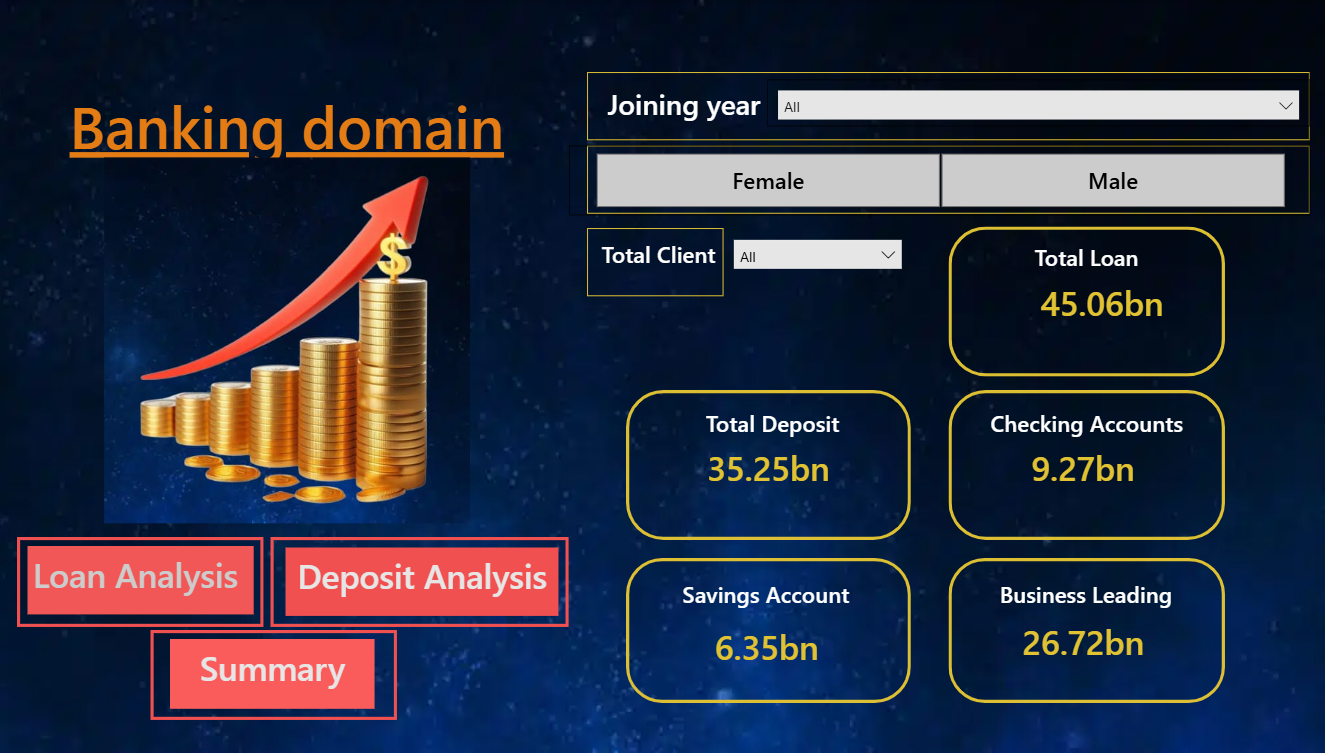

Layout of this report page (visuals, bound fields, positions):
{"tool":"powerbi","page":{"name":"Home","canvas":[1280,720],"ordinal":0},"visuals":[{"type":"shape","box":[572.6,138.4,690.3,65.2],"z":0},{"type":"slicer","fields":{"Values":["Advanced_Cleaned_Messy2.genderid"]},"box":[555.1,138.4,707.8,66.8],"z":1000},{"type":"shape","box":[572.6,68.4,690.3,65.2],"z":2000},{"type":"slicer","fields":{"Values":["Advanced_Cleaned_Messy2.client_id"]},"box":[703.1,219.5,179.7,57.3],"z":3000},{"type":"shape","box":[917.8,532.9,264,138.4],"z":4000},{"type":"shape","box":[610.8,532.9,272,138.4],"z":5000},{"type":"shape","box":[610.8,372.2,272,143.2],"z":6000},{"type":"shape","box":[917.8,372.2,264,143.2],"z":7000},{"type":"shape","box":[917.8,216.3,264,143.2],"z":8000},{"type":"textbox","box":[656.9,383.3,179.7,49.3],"z":9000},{"type":"textbox","box":[572.6,222.7,136.8,54.1],"z":10000},{"type":"textbox","box":[976.6,224.3,146.3,52.5],"z":11000},{"type":"textbox","box":[946.4,383.3,206.8,49.3],"z":12000},{"type":"textbox","box":[639.4,547.2,210,54.1],"z":13000},{"type":"textbox","box":[946.4,547.2,205.2,63.6],"z":14000},{"type":"textbox","box":[284.7,523.3,260.9,65.2],"z":15000},{"type":"shape","box":[270.4,512.2,284.7,85.9],"z":16000},{"type":"shape","box":[28.6,512.2,235.4,85.9],"z":17000},{"type":"textbox","box":[38.2,521.7,216.3,65.2],"z":18000},{"type":"textbox","box":[175,610.8,195.6,66.8],"z":19000},{"type":"shape","box":[155.9,601.3,235.4,85.9],"z":20000},{"type":"textbox","box":[0,76.3,572.6,89.1],"z":21000},{"type":"textbox","box":[586.9,76.3,176.6,57.3],"z":22000},{"type":"slicer","fields":{"Values":["Advanced_Cleaned_Messy2.joined_bank"]},"box":[744.4,76.3,518.5,44.5],"z":23000},{"type":"cardVisual","fields":{"Data":["Advanced_Cleaned_Messy2.Total Deposit"]},"box":[658.5,408.8,190.9,74.8],"z":24000},{"type":"cardVisual","fields":{"Data":["Sum(Advanced_Cleaned_Messy2.checking_accounts)"]},"box":[968.7,408.8,160.7,74.8],"z":25000},{"type":"cardVisual","fields":{"Data":["Sum(Advanced_Cleaned_Messy2.business_lending)"]},"box":[959.1,574.2,182.9,74.8],"z":26000},{"type":"cardVisual","fields":{"Data":["Sum(Advanced_Cleaned_Messy2.saving_accounts)"]},"box":[666.5,579,160.7,74.8],"z":27000},{"type":"cardVisual","fields":{"Data":["Advanced_Cleaned_Messy2.Total Loan"]},"box":[976.6,251.3,189.3,74.8],"z":28000},{"type":"image","box":[65.9,150.4,441.2,349.5],"z":29000},{"type":"shape","box":[572.6,217.9,130.4,65.2],"z":30000}]}

Visuals, with their boxes in screenshot pixels (x1, y1, x2, y2), scaled from the page's 1280x720 canvas onto the 1334x753 screenshot:
shape: (597, 145, 1316, 213)
slicer - Advanced_Cleaned_Messy2.genderid: (579, 145, 1316, 215)
shape: (597, 72, 1316, 140)
slicer - Advanced_Cleaned_Messy2.client_id: (733, 230, 920, 289)
shape: (957, 557, 1232, 702)
shape: (637, 557, 920, 702)
shape: (637, 389, 920, 539)
shape: (957, 389, 1232, 539)
shape: (957, 226, 1232, 376)
textbox: (685, 401, 872, 452)
textbox: (597, 233, 739, 289)
textbox: (1018, 235, 1170, 289)
textbox: (986, 401, 1202, 452)
textbox: (666, 572, 885, 629)
textbox: (986, 572, 1200, 639)
textbox: (297, 547, 569, 615)
shape: (282, 536, 579, 626)
shape: (30, 536, 275, 626)
textbox: (40, 546, 265, 614)
textbox: (182, 639, 386, 709)
shape: (162, 629, 408, 719)
textbox: (0, 80, 597, 173)
textbox: (612, 80, 796, 140)
slicer - Advanced_Cleaned_Messy2.joined_bank: (776, 80, 1316, 126)
cardVisual - Advanced_Cleaned_Messy2.Total Deposit: (686, 428, 885, 506)
cardVisual - Sum(Advanced_Cleaned_Messy2.checking_accounts): (1010, 428, 1177, 506)
cardVisual - Sum(Advanced_Cleaned_Messy2.business_lending): (1000, 601, 1190, 679)
cardVisual - Sum(Advanced_Cleaned_Messy2.saving_accounts): (695, 606, 862, 684)
cardVisual - Advanced_Cleaned_Messy2.Total Loan: (1018, 263, 1215, 341)
image: (69, 157, 528, 523)
shape: (597, 228, 733, 296)
